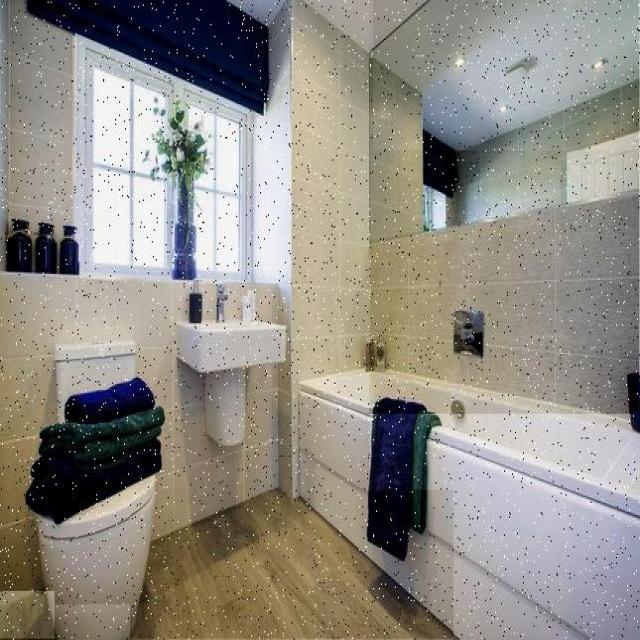Wall: (0, 0, 369, 604), (370, 59, 639, 414), (130, 491, 453, 639), (374, 0, 639, 150), (0, 0, 73, 238), (305, 0, 425, 51), (0, 592, 55, 639), (229, 0, 282, 25)
